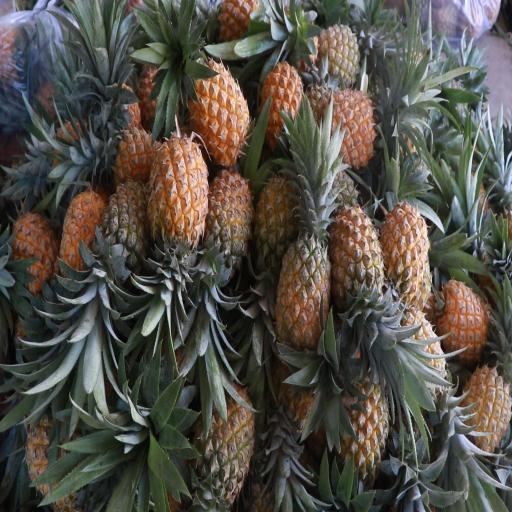------------------------------: (193, 375, 256, 512), (272, 221, 335, 350), (98, 173, 156, 278), (253, 164, 303, 280), (313, 21, 365, 103)
Pineapple - v8 v1: (146, 128, 214, 263), (187, 56, 252, 172), (328, 199, 386, 318), (376, 196, 432, 317), (202, 162, 256, 281), (313, 83, 383, 173), (333, 372, 393, 473), (6, 197, 60, 304), (259, 50, 311, 156), (60, 182, 109, 290), (459, 362, 512, 458), (436, 277, 494, 359)
